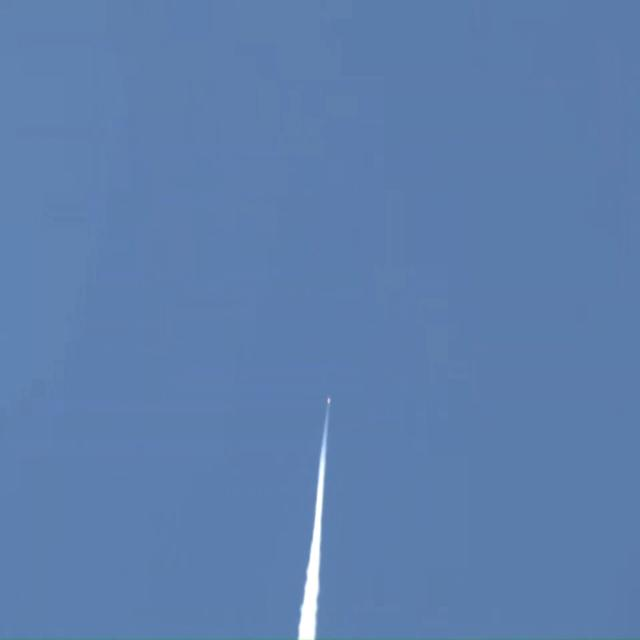Rocket: (327, 394, 331, 405)
